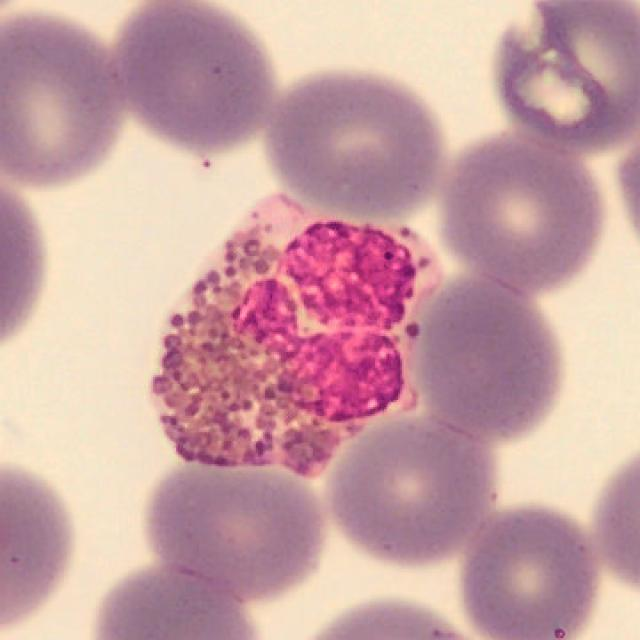Eosinofilo: (149, 194, 443, 482)
